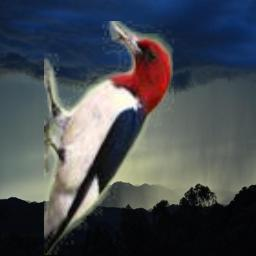Woodpecker: (44, 21, 174, 255)
